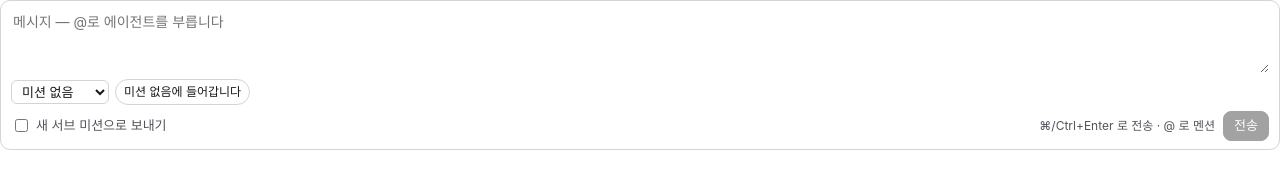
Test case: Composer — 미션 선택기 · 귀속 칩은 서버 미리보기(work · work_source)를 그대로 말한다 › 자동 귀속(규칙 3 running_lane) — 「자동: 」 접두로 사람이 고른 것과 갈리고, 선택기가 그 미션으로 바뀐다
Expected: the text with test id "chip-work" reads "미션 없음에 들어갑니다", [124,84,241,99]
Type "[@Lead](mention://agent/a-lead) 이어서" into the text box with test id "composer-input" at (640, 41), box [11,9,1269,73]
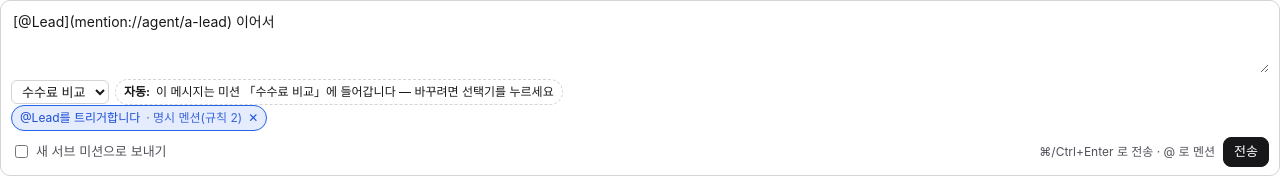
Now the element with test id "chip-work" reads "자동: 이 메시지는 미션 「수수료 비교」에 들어갑니다 — 바꾸려면 선택기를 누르세요", box [115,79,563,105]
Now the text with test id "chip-work-auto" reads "자동:", box [124,84,150,99]
Now the dropdown with test id "work-selector-select" shows "수수료 비교", box [11,80,109,104]
